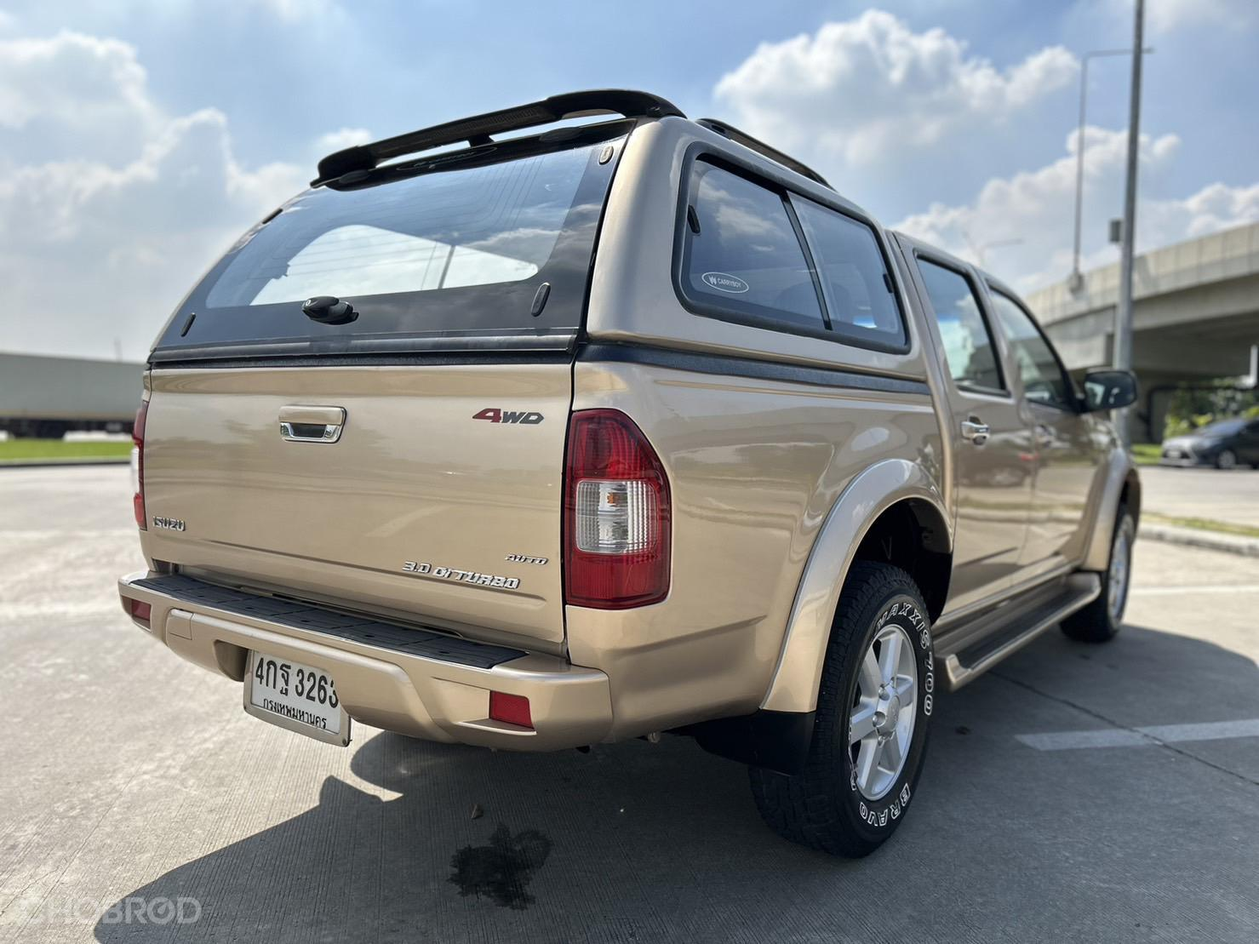license-plate: (235, 641, 358, 749)
